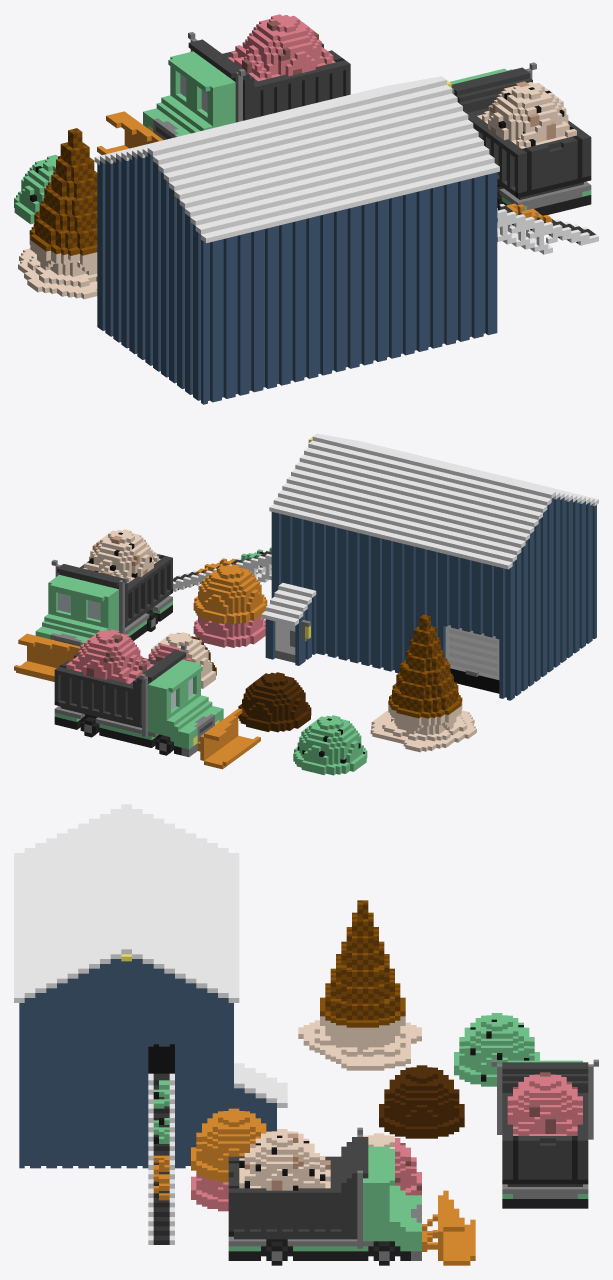
File: ice_cream-1.obj
The picture shows the model from 3 angles, top to bottom: view 1: azimuth 30°, elevation 25°; view 2: azimuth 150°, elevation 25°; view 3: azimuth 270°, elevation 25°; orthographic projection. The views are drawn at different scales.
Visible parts, largest first — view 1: ice_cream-1; view 2: ice_cream-1; view 3: ice_cream-1.
Boxes of the visible parts, <box> form: ice_cream-1: <box>14,14,598,404</box>; ice_cream-1: <box>14,433,598,775</box>; ice_cream-1: <box>14,804,598,1265</box>.
Bounding box in the file's own units: 111 × 45 × 109.
1 material, 1 textured.
